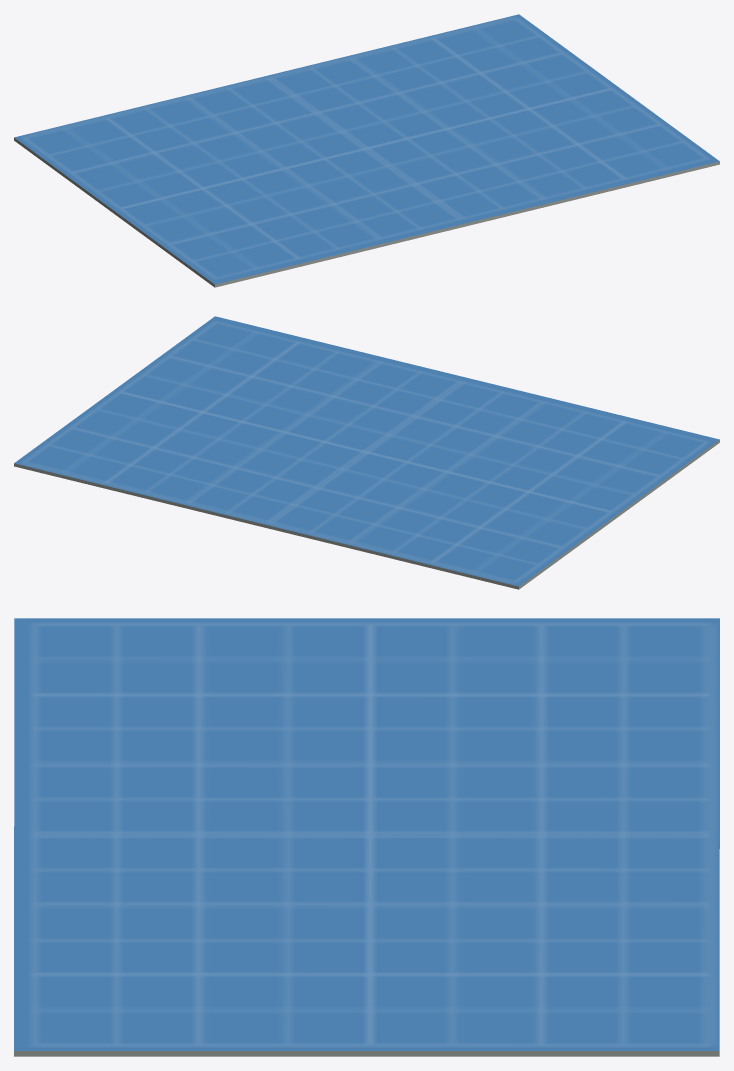
File: SM_Prop_Plans_02.fbx
3 renders of one model, top to bottom at view 1: azimuth 30°, elevation 25°; view 2: azimuth 150°, elevation 25°; view 3: azimuth 270°, elevation 25°, orthographic. The views are drawn at different scales.
Visible parts, largest first — view 1: SM_Prop_Plans_02; view 2: SM_Prop_Plans_02; view 3: SM_Prop_Plans_02.
Part boxes in pixels (x1,y1,x2,y2): SM_Prop_Plans_02: (14,14,719,287); SM_Prop_Plans_02: (14,316,719,589); SM_Prop_Plans_02: (14,618,719,1056).
Size of the model in its own units: 87.12 by 0.5156 by 60.06.
